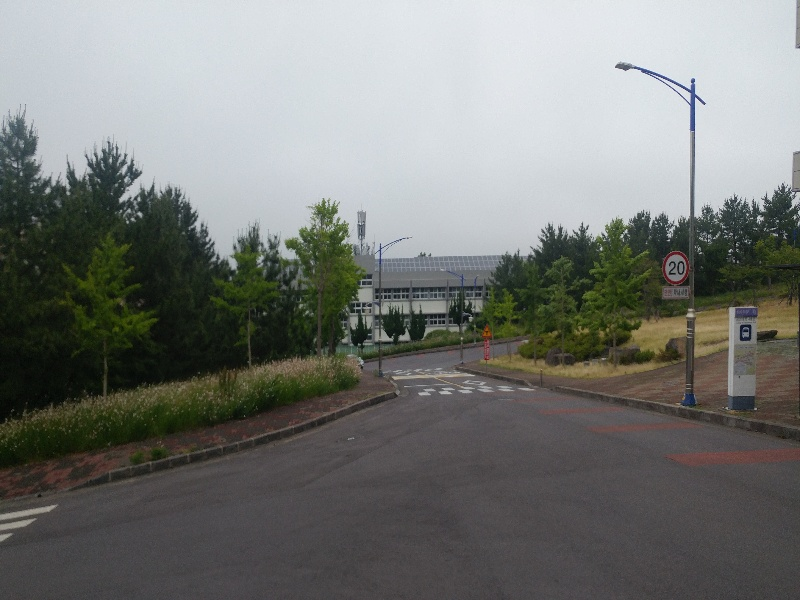Cultural lecture hall: (339, 265, 499, 337)
